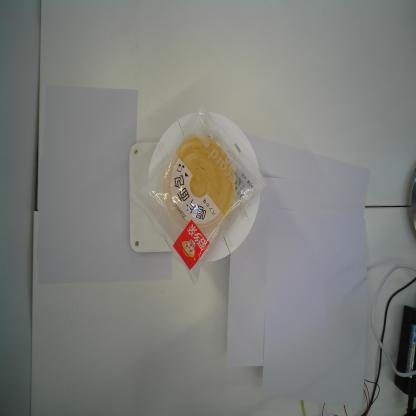Dessert: (129, 99, 271, 287)
